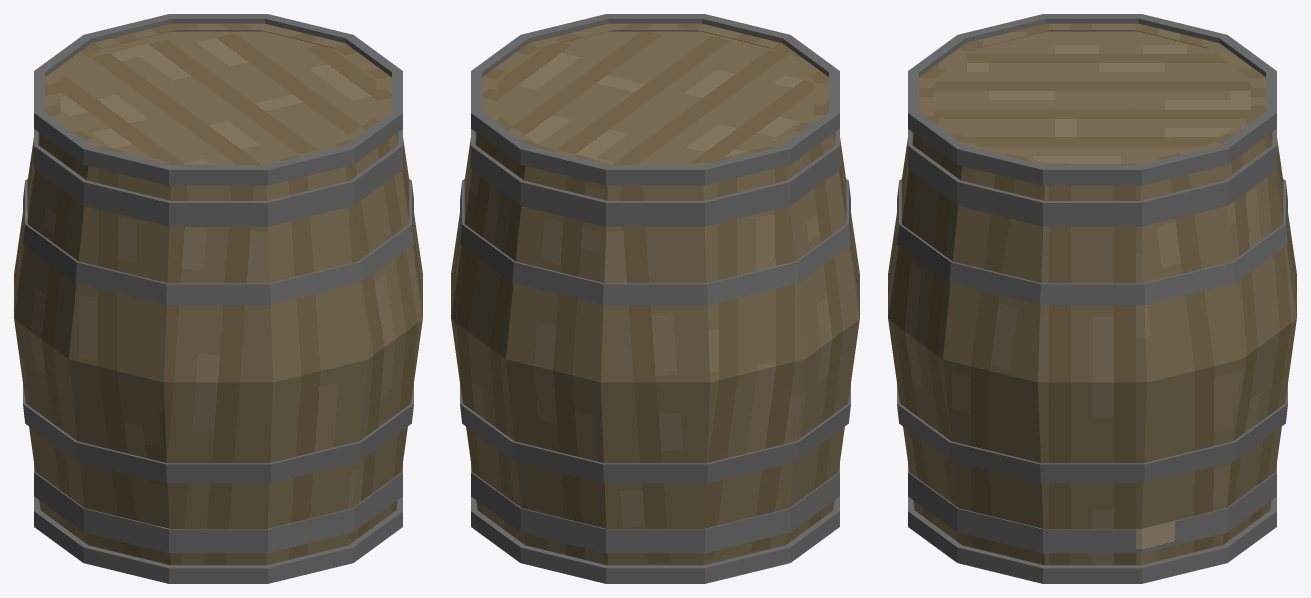
Rendered from barrel.gltf.
3 renders of one model, left to right at view 1: azimuth 30°, elevation 25°; view 2: azimuth 150°, elevation 25°; view 3: azimuth 270°, elevation 25°, orthographic.
Parts seen in each view (by area): view 1: tube, Metal (×6), circle; view 2: tube, Metal (×6), circle; view 3: tube, Metal (×6), circle.
Boxes of the visible parts, left/top/right/bottom form: tube: left=14, top=23, right=422, bottom=565; Metal (×6): left=23, top=14, right=413, bottom=583; circle: left=60, top=31, right=376, bottom=163; tube: left=451, top=23, right=859, bottom=565; Metal (×6): left=460, top=14, right=850, bottom=583; circle: left=497, top=31, right=813, bottom=163; tube: left=888, top=23, right=1296, bottom=565; Metal (×6): left=897, top=14, right=1287, bottom=583; circle: left=934, top=31, right=1250, bottom=163.
Size of the model in its own units: 1.16 by 1.3 by 1.16.
1 material, 1 textured.
